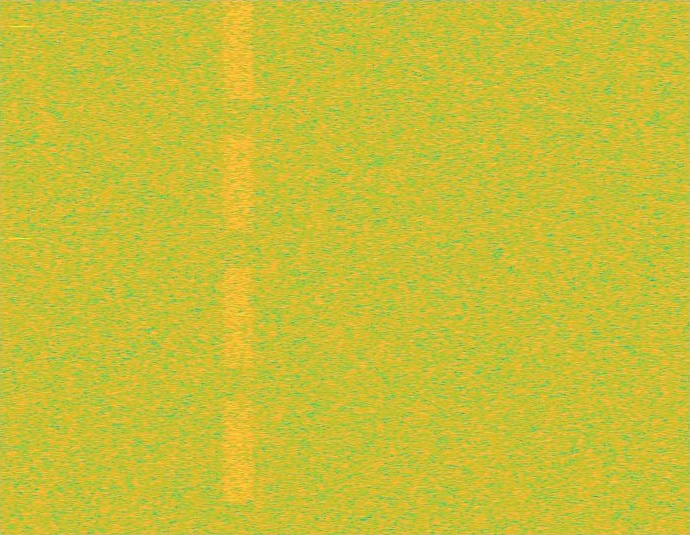5G: (221, 0, 256, 534)
Radar: (14, 0, 28, 534)
